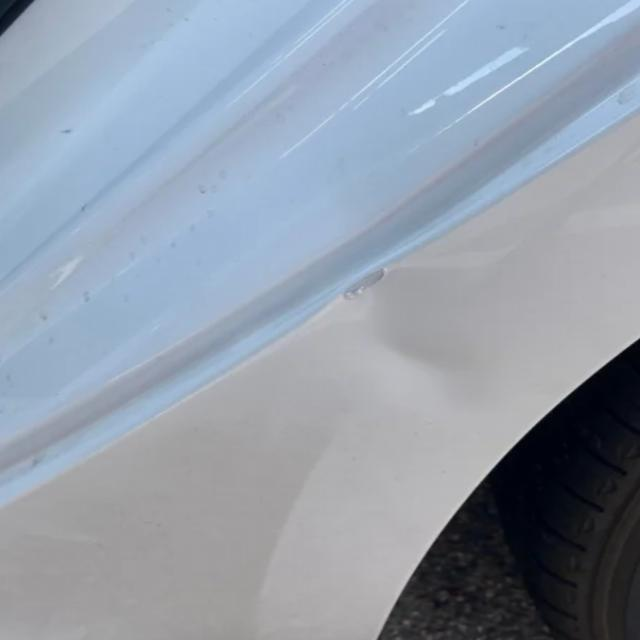dents: (306, 240, 546, 443)
